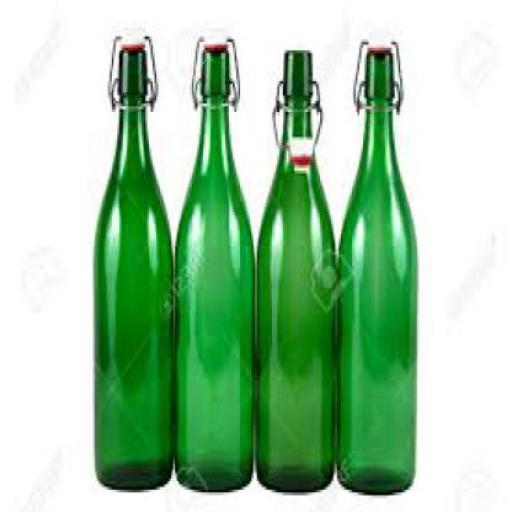glass: (172, 33, 253, 490), (334, 36, 414, 493), (93, 34, 173, 488), (254, 47, 334, 493)
